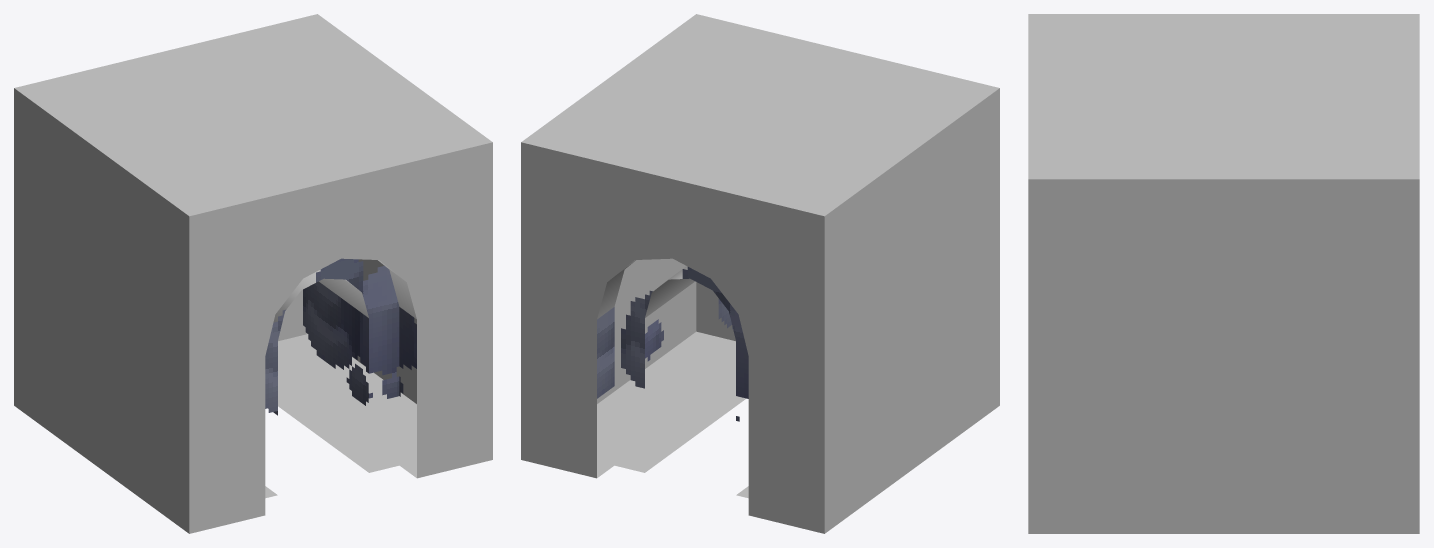
Rendered from wallPaint_gate.dae.
3 renders of one model, left to right at view 1: azimuth 30°, elevation 25°; view 2: azimuth 150°, elevation 25°; view 3: azimuth 270°, elevation 25°, orthographic. The views are drawn at different scales.
Visible parts, largest first — view 1: wallPaint_gate; view 2: wallPaint_gate; view 3: wallPaint_gate.
Part boxes in pixels (left/top/right/bottom): wallPaint_gate: left=14, top=14, right=492, bottom=533; wallPaint_gate: left=521, top=14, right=999, bottom=533; wallPaint_gate: left=1028, top=14, right=1419, bottom=533.
Size of the model in its own units: 1 by 1 by 1.
